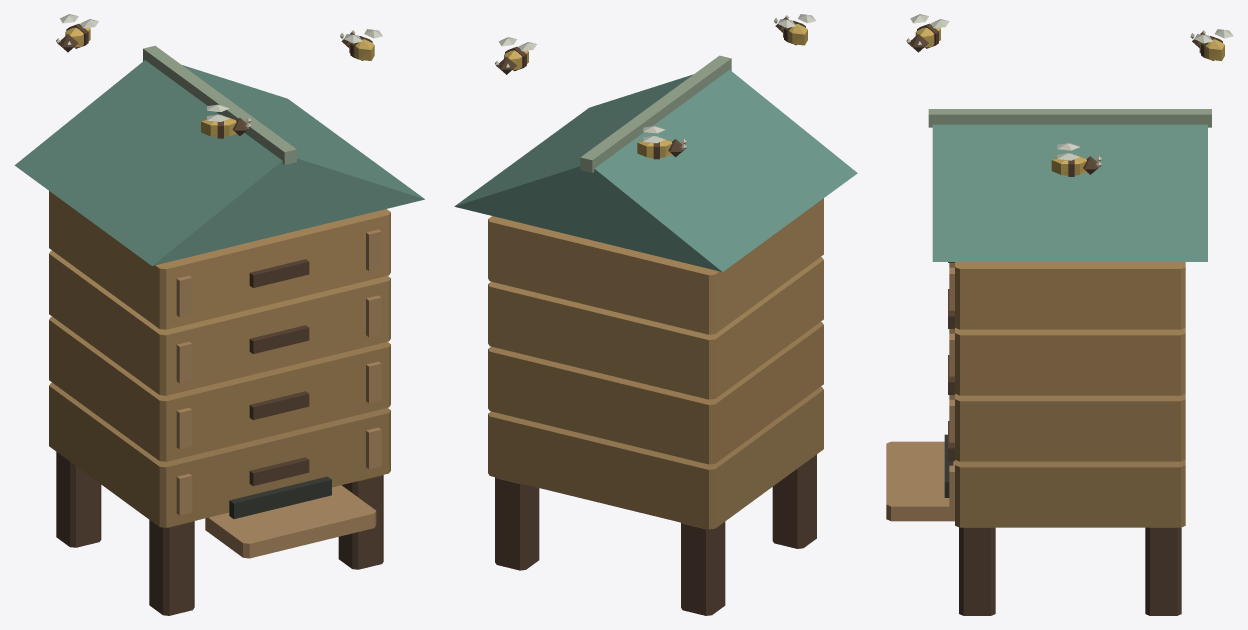
Rendered from beehive.glb.
The picture shows the model from 3 angles, left to right: view 1: azimuth 30°, elevation 25°; view 2: azimuth 150°, elevation 25°; view 3: azimuth 270°, elevation 25°; orthographic projection.
Visible parts, largest first — view 1: geometry, spin; view 2: geometry, spin; view 3: geometry, spin.
Part boxes in pixels (<box>): geometry: <box>14,45,424,615</box>; spin: <box>56,14,382,138</box>; geometry: <box>454,55,857,615</box>; spin: <box>495,14,815,159</box>; geometry: <box>886,109,1211,615</box>; spin: <box>906,14,1233,176</box>.
Size of the model in its own units: 0.8454 by 1.39 by 0.8584.
